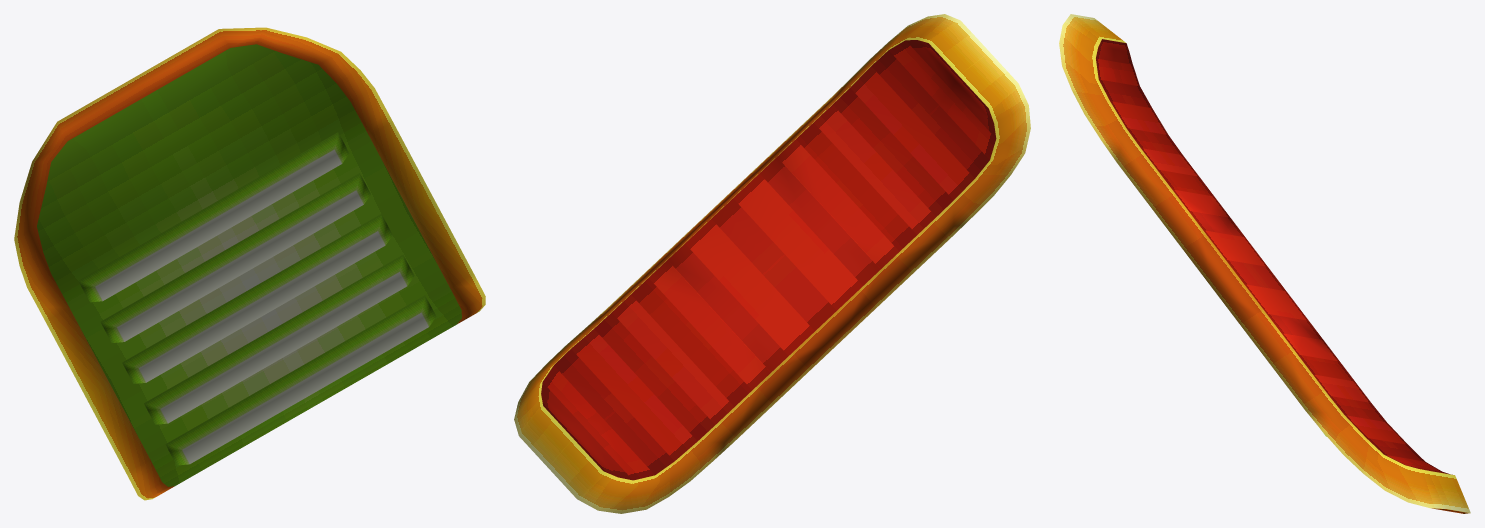
The model's file is hoverboard.glb.
The picture shows the model from 3 angles, left to right: view 1: azimuth 30°, elevation 25°; view 2: azimuth 150°, elevation 25°; view 3: azimuth 270°, elevation 25°; orthographic projection. The views are drawn at different scales.
Parts seen in each view (by area): view 1: hoverboard; view 2: hoverboard; view 3: hoverboard.
Part boxes in pixels (box(x1,y1,x2,y2)): hoverboard: box(14, 27, 485, 500); hoverboard: box(514, 14, 1030, 513); hoverboard: box(1059, 14, 1470, 513).
Bounding box in the file's own units: 6.59 × 6.87 × 6.16.
1 material, 1 textured.
